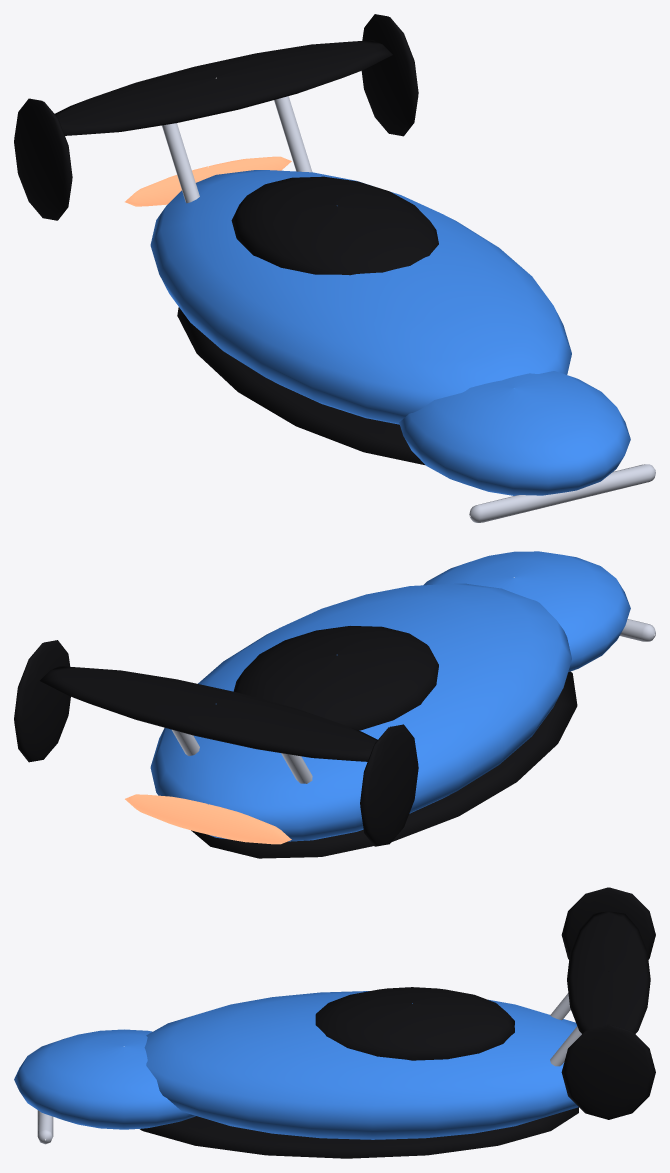
Rendered from kart_1.glb.
3 views of the same model, one above another, from view 1: azimuth 30°, elevation 25°; view 2: azimuth 150°, elevation 25°; view 3: azimuth 270°, elevation 25° (orthographic). The views are drawn at different scales.
Visible parts, largest first — view 1: kart_1; view 2: kart_1; view 3: kart_1.
Boxes of the visible parts, bbox=[...] form: kart_1: bbox=[14, 14, 655, 522]; kart_1: bbox=[14, 551, 655, 858]; kart_1: bbox=[14, 887, 655, 1158].
Bounding box in the file's own units: 1.3 × 0.68 × 2.45.
